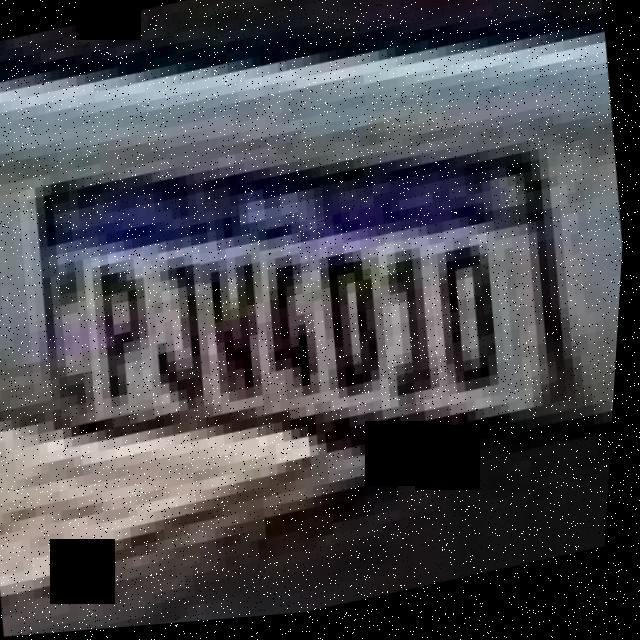0: (429, 237, 519, 413)
1: (373, 239, 456, 419)
4: (257, 249, 335, 409)
D: (314, 241, 403, 415)
J: (139, 249, 225, 426)
P: (83, 252, 169, 422)
V: (197, 246, 283, 421)
